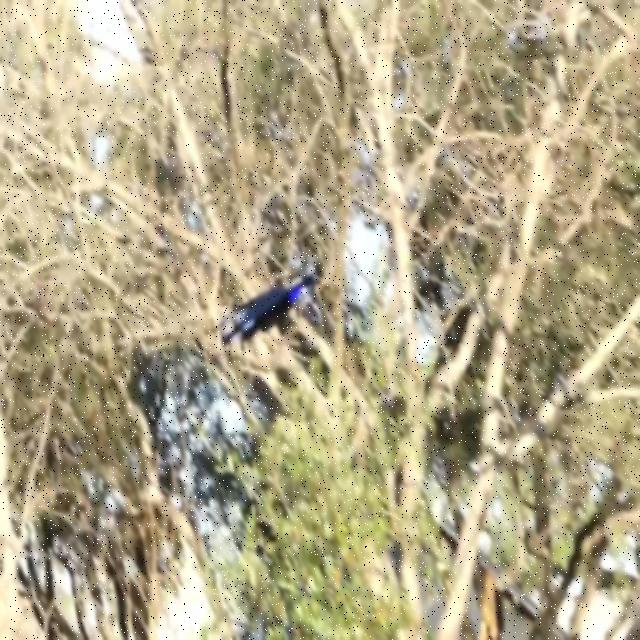UAV: (220, 272, 320, 352)
